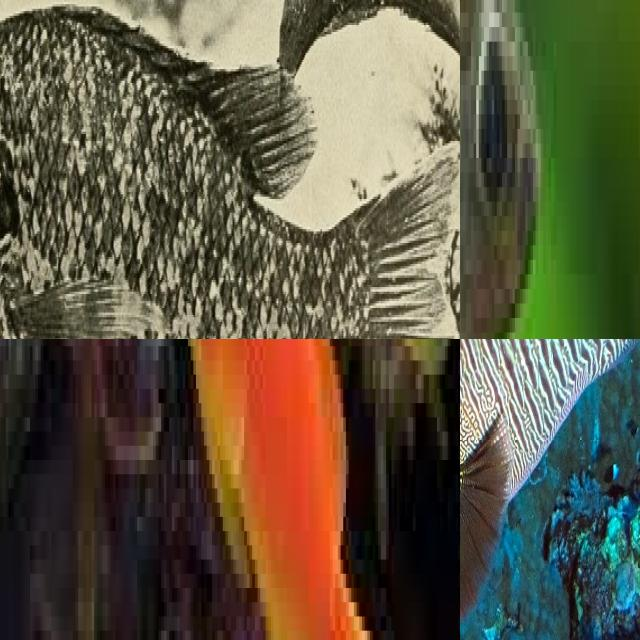fish: (0, 0, 460, 339)
